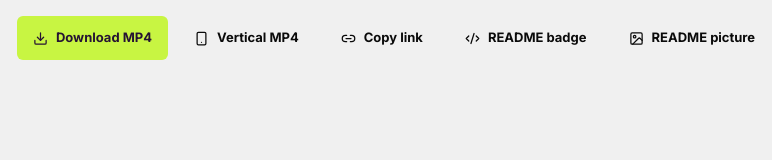
Test: ExplainerShare MP4 downloads › offers a reload when the video was replaced after the page loaded
The width and height of the screenshot is (772, 160).
Click the button "Vertical MP4" at (246, 38), box [178,16,315,60]
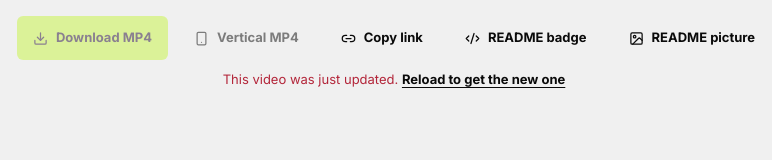
Expected: the message shows "This video was just updated.", [223,71,398,87]
Expected: the button "Reload to get the new one" is shown, [402,70,565,90]
Expected: the button "Download MP4" is disabled, [17,16,168,60]
